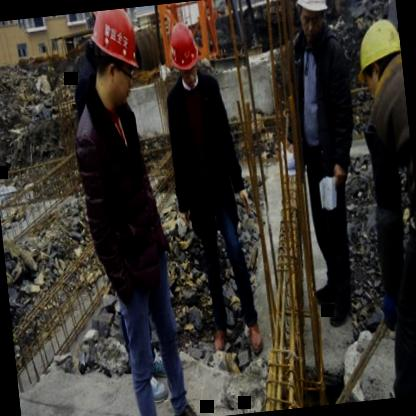helmet: (80, 6, 154, 116), (348, 3, 407, 113), (162, 19, 204, 83), (292, 0, 333, 39)
